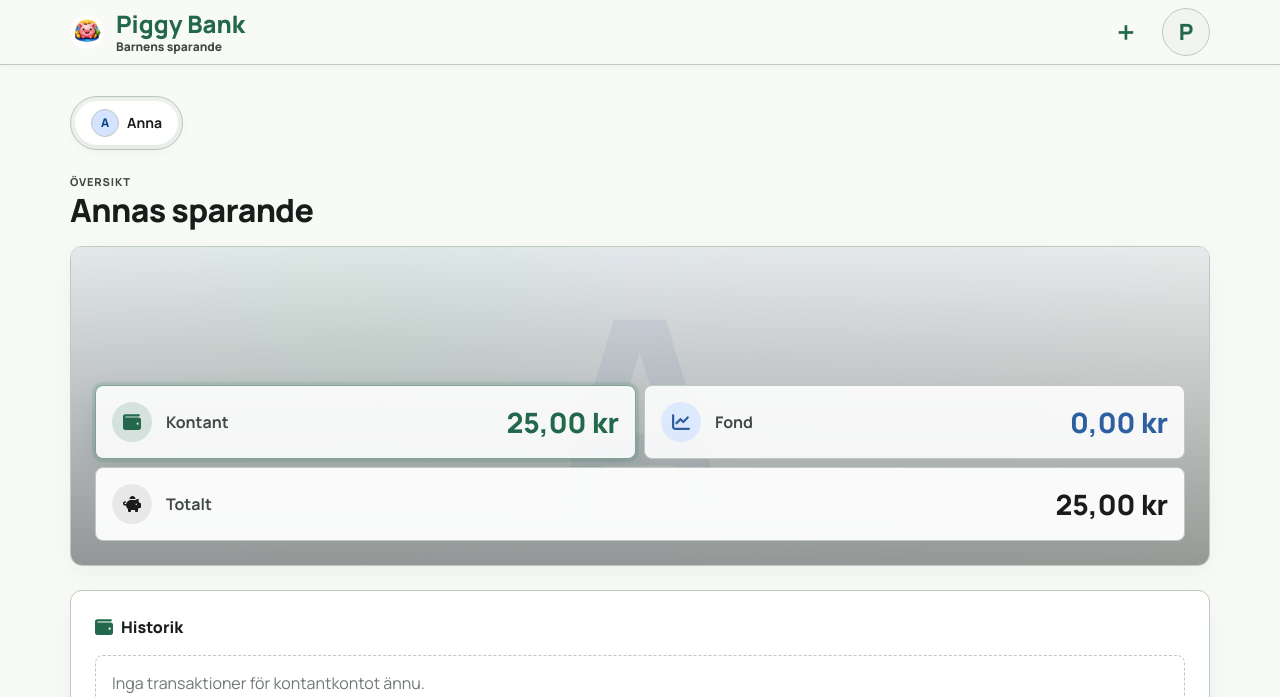
App › saves allowance settings from the selected child settings
expect the heading "Annas sparande" is shown: met, box left=70, top=190, right=313, bottom=230
Click the button named "Användare parent".
click(1186, 32)  # box left=1162, top=8, right=1210, bottom=56
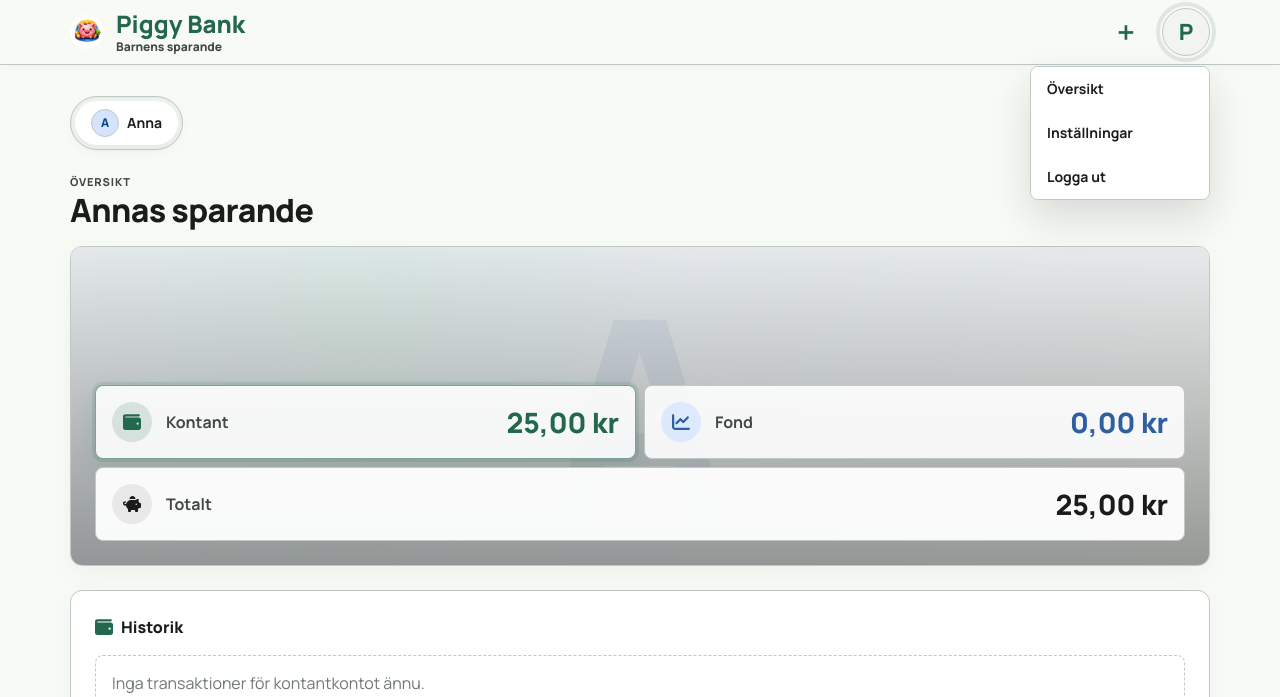
Click the menu item "Inställningar".
click(1120, 133)  # box left=1031, top=111, right=1209, bottom=155
(page scrolled)
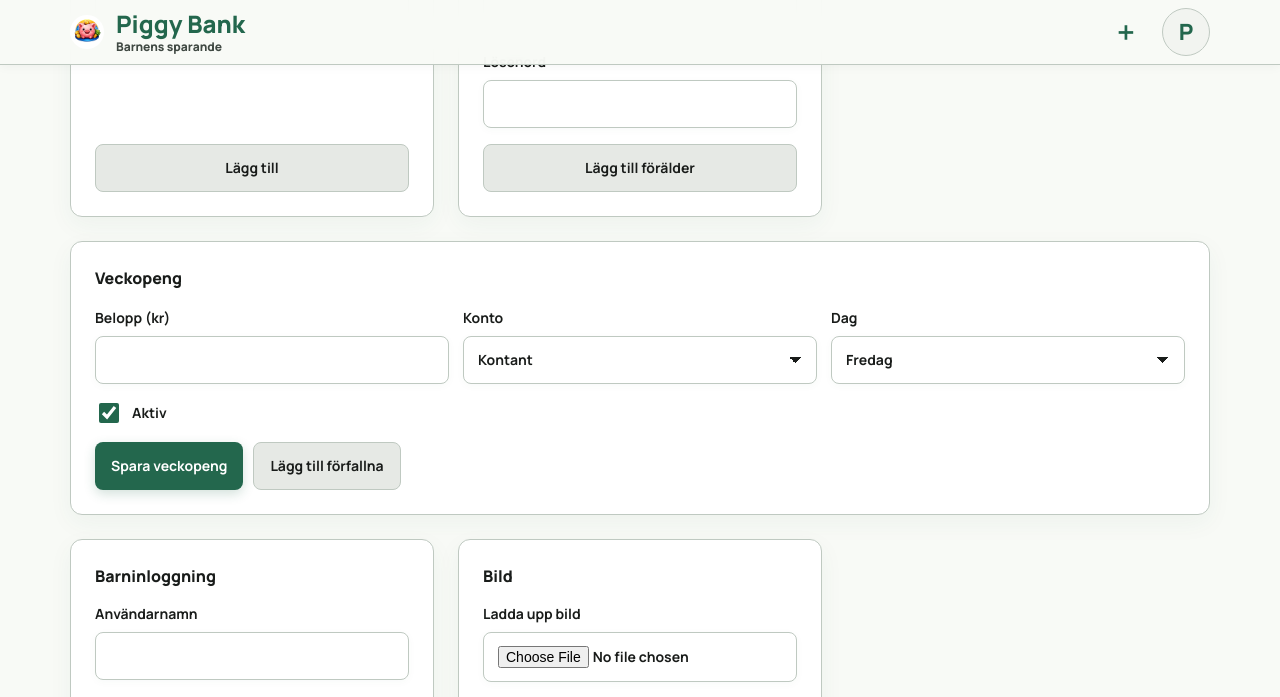
expect the element "Veckopeng" is shown: met, box left=70, top=241, right=1210, bottom=515
Type "25" into the field labelled "Belopp (kr)".
click(272, 360); type("25")  # box left=95, top=336, right=449, bottom=384
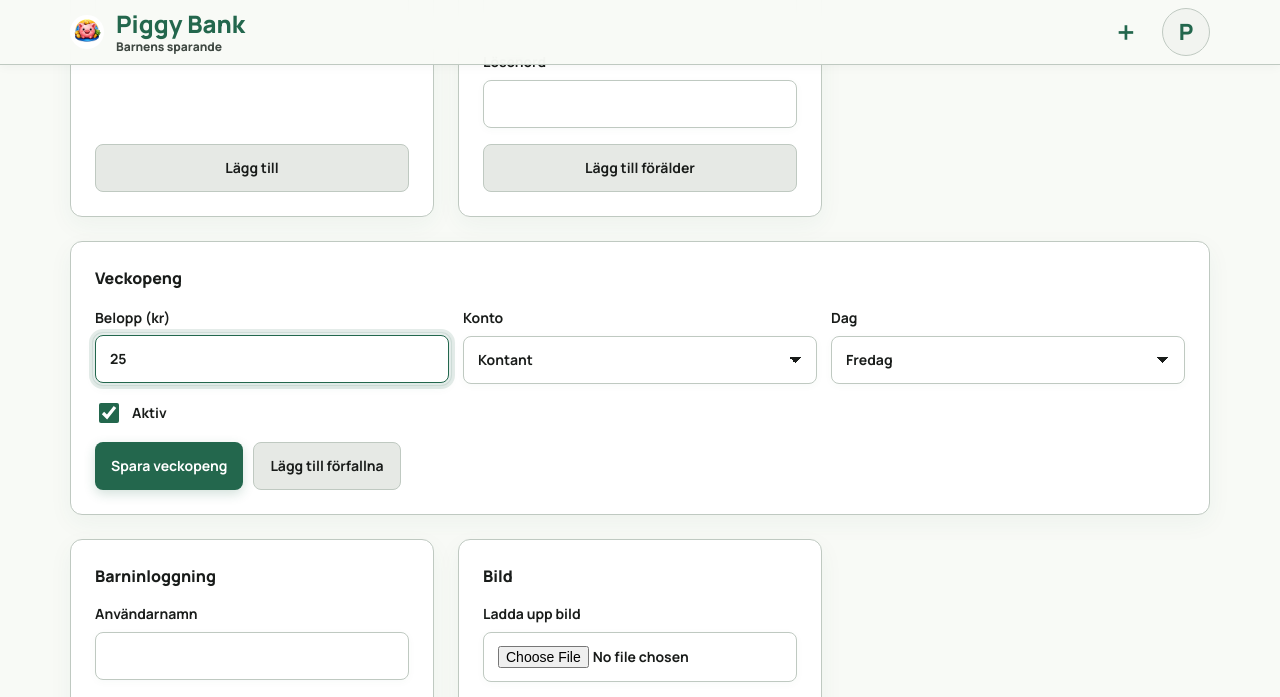
Select "Måndag" in the dropdown labelled "Dag" at (1008, 360), box left=831, top=336, right=1185, bottom=384
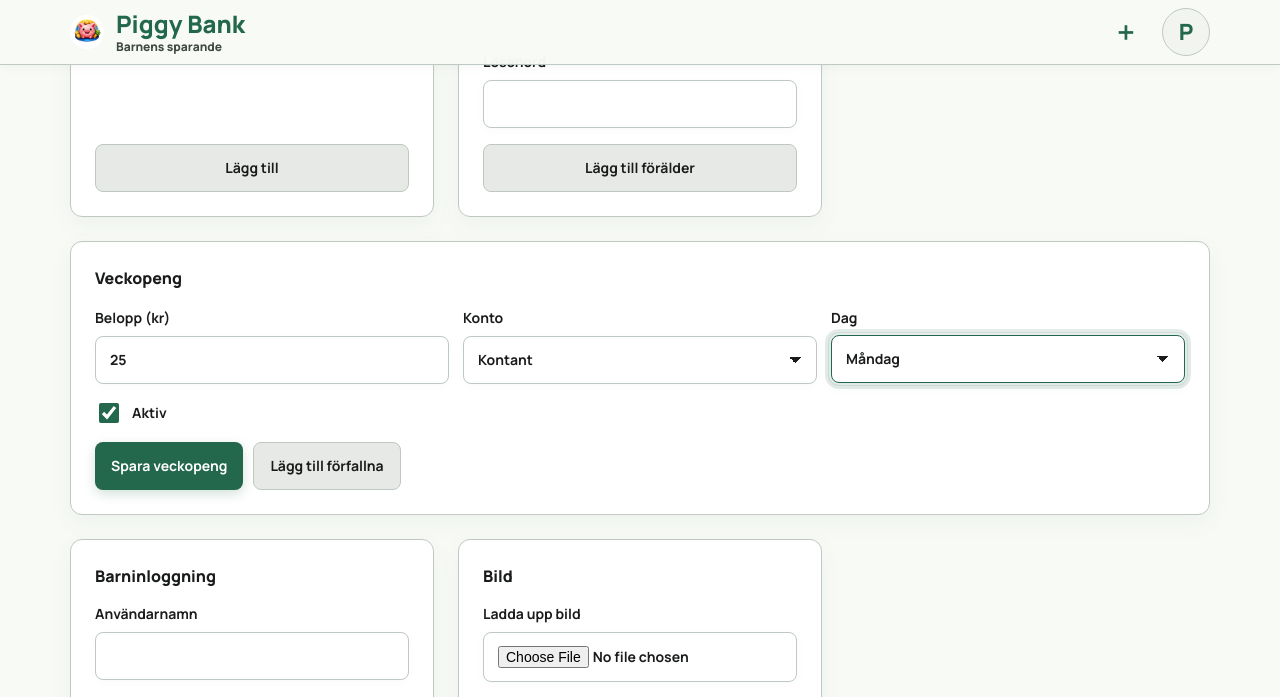
Click the button "Spara veckopeng".
click(169, 466)  # box left=95, top=442, right=243, bottom=490
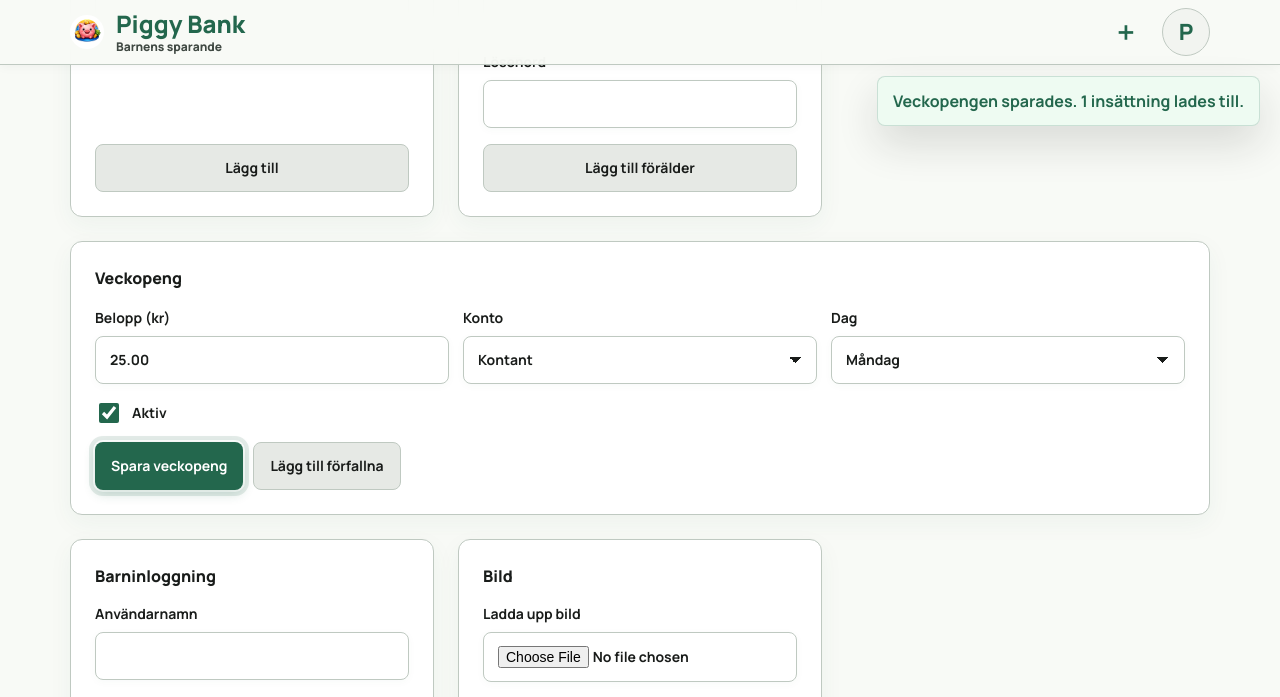
expect the text "Veckopengen sparades. 1 insättning lades till." is shown: met, box left=877, top=76, right=1260, bottom=126
